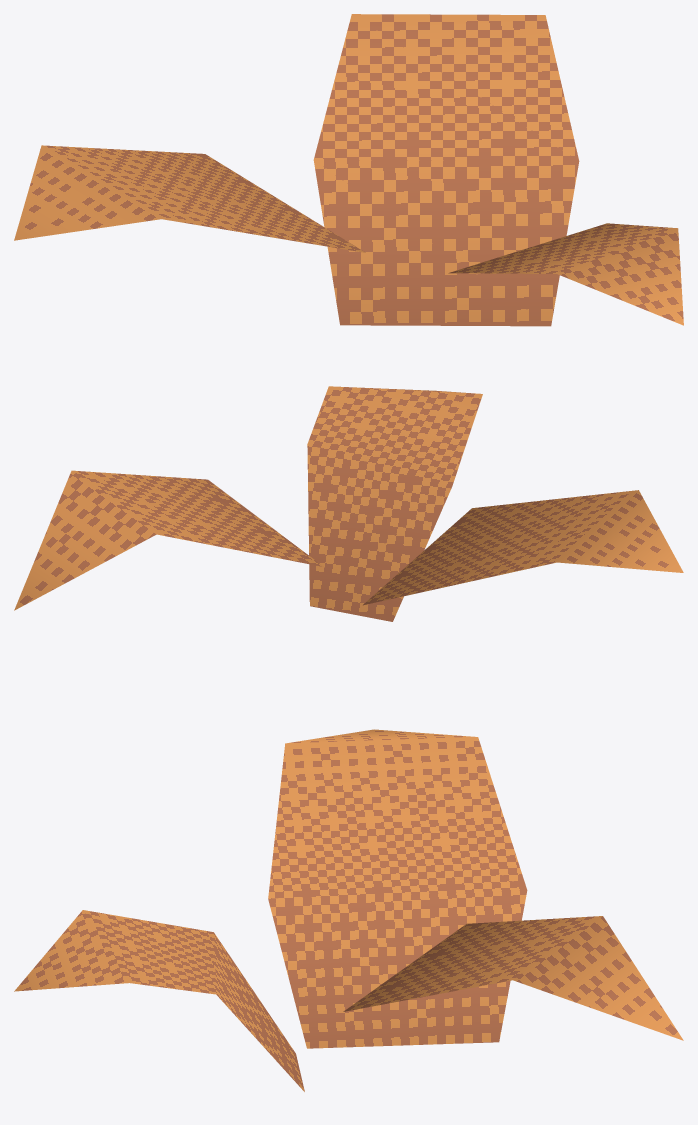
The model's file is Mesh_plant_01.gltf.
The picture shows the model from 3 angles, top to bottom: view 1: azimuth 30°, elevation 25°; view 2: azimuth 150°, elevation 25°; view 3: azimuth 270°, elevation 25°; orthographic projection. The views are drawn at different scales.
Visible parts, largest first — view 1: Plant_01; view 2: Plant_01; view 3: Plant_01.
Boxes of the visible parts, x1,y1,x2,y2 form: Plant_01: (14, 14, 683, 326); Plant_01: (14, 386, 683, 621); Plant_01: (14, 729, 683, 1091).
Bounding box in the file's own units: 0.3694 × 0.1212 × 0.3862.
